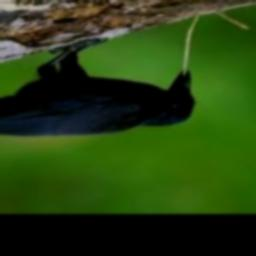Crow: (0, 38, 196, 138)
